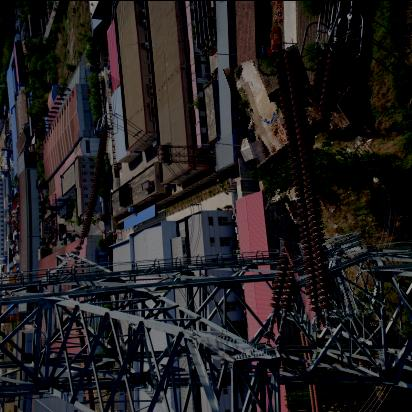insulator: (246, 47, 367, 330), (76, 130, 114, 245)
